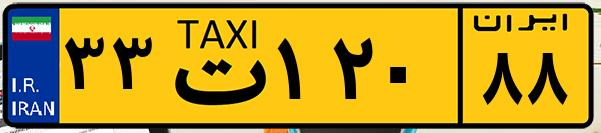0: (385, 28, 445, 110)
1: (270, 28, 330, 110)
2: (330, 28, 385, 110)
3: (57, 26, 110, 100), (110, 28, 158, 98)
8: (475, 38, 525, 113), (525, 38, 570, 115)
ت: (158, 12, 270, 120)
